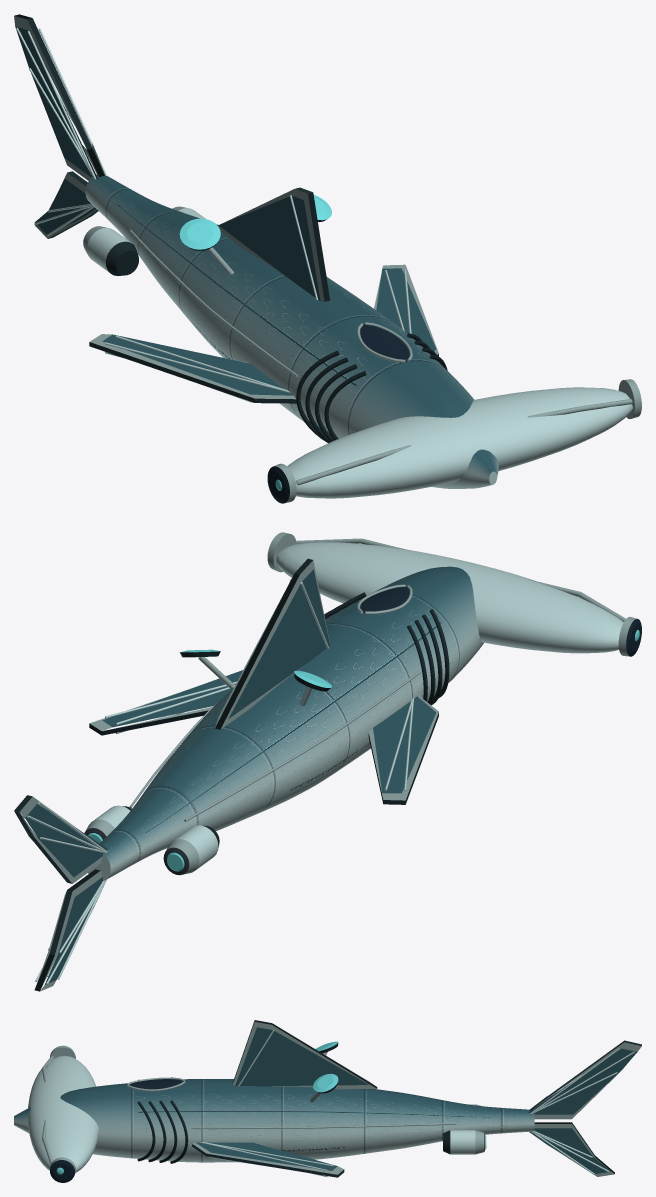
The model's file is hammerhead.glb.
3 views of the same model, one above another, from view 1: azimuth 30°, elevation 25°; view 2: azimuth 150°, elevation 25°; view 3: azimuth 270°, elevation 25° (orthographic). The views are drawn at different scales.
Parts seen in each view (by area): view 1: hammerhead_hull; view 2: hammerhead_hull; view 3: hammerhead_hull.
Boxes of the visible parts, x1,y1,x2,y2 form: hammerhead_hull: [14, 14, 641, 503]; hammerhead_hull: [14, 532, 641, 991]; hammerhead_hull: [14, 1020, 641, 1182].
Size of the model in its own units: 119 by 74.23 by 272.
Materials: 1 (1 with a texture image).
